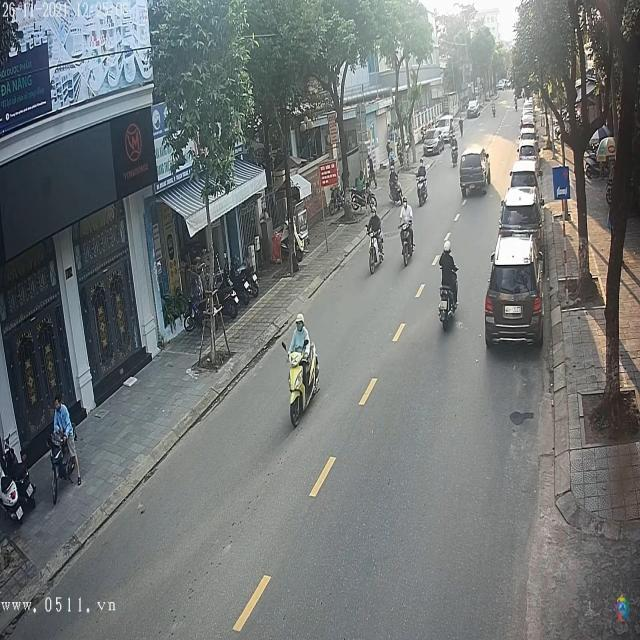car: (486, 232, 543, 347), (458, 150, 489, 195), (424, 126, 445, 156), (468, 98, 481, 117)
motorcycle: (284, 332, 320, 431), (435, 280, 458, 323), (368, 227, 384, 277), (401, 218, 414, 266)
